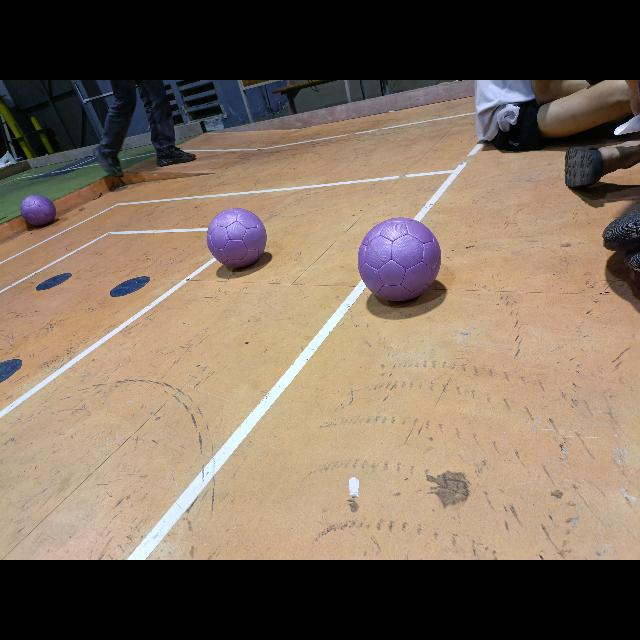P: (358, 218, 440, 300), (208, 208, 266, 268), (20, 194, 56, 226)
